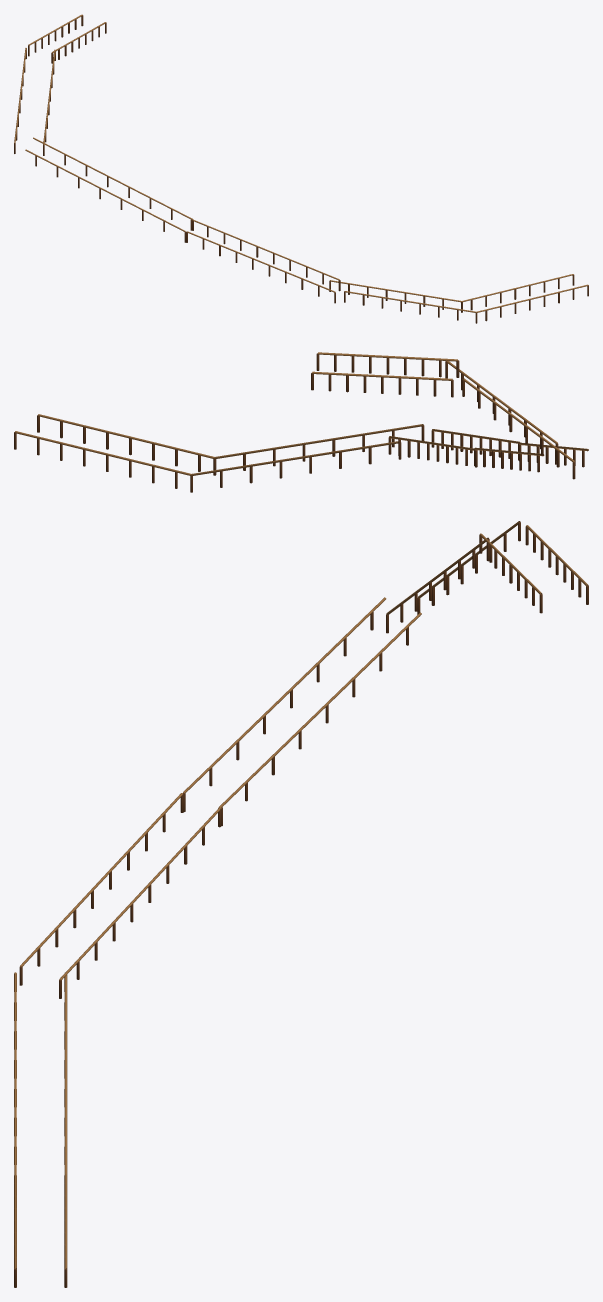
The model's file is Stair_Rails.fbx.
3 views of the same model, one above another, from view 1: azimuth 30°, elevation 25°; view 2: azimuth 150°, elevation 25°; view 3: azimuth 270°, elevation 25° (orthographic). The views are drawn at different scales.
Parts seen in each view (by area): view 1: Stair_Rails; view 2: Stair_Rails; view 3: Stair_Rails.
Boxes of the visible parts, bbox=[...] form: Stair_Rails: bbox=[14, 14, 588, 323]; Stair_Rails: bbox=[14, 352, 588, 492]; Stair_Rails: bbox=[14, 521, 588, 1287].
Bounding box in the file's own units: 4512 × 2855 × 2289.
